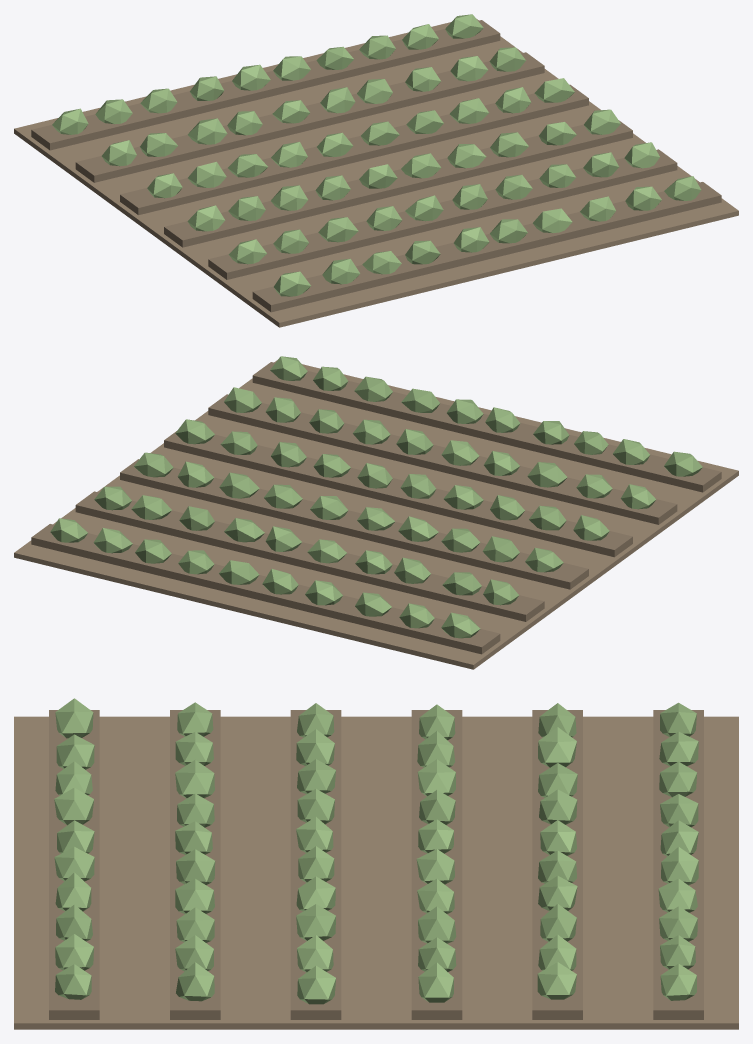
The model's file is crops_cabbage.glb.
3 views of the same model, one above another, from view 1: azimuth 30°, elevation 25°; view 2: azimuth 150°, elevation 25°; view 3: azimuth 270°, elevation 25° (orthographic). The views are drawn at different scales.
Visible parts, largest first — view 1: crops_cabbage; view 2: crops_cabbage; view 3: crops_cabbage.
Part boxes in pixels (x1,y1,x2,y2): crops_cabbage: (14, 14, 738, 327); crops_cabbage: (14, 356, 738, 669); crops_cabbage: (14, 698, 738, 1029).
Size of the model in its own units: 2 by 0.1261 by 2.
